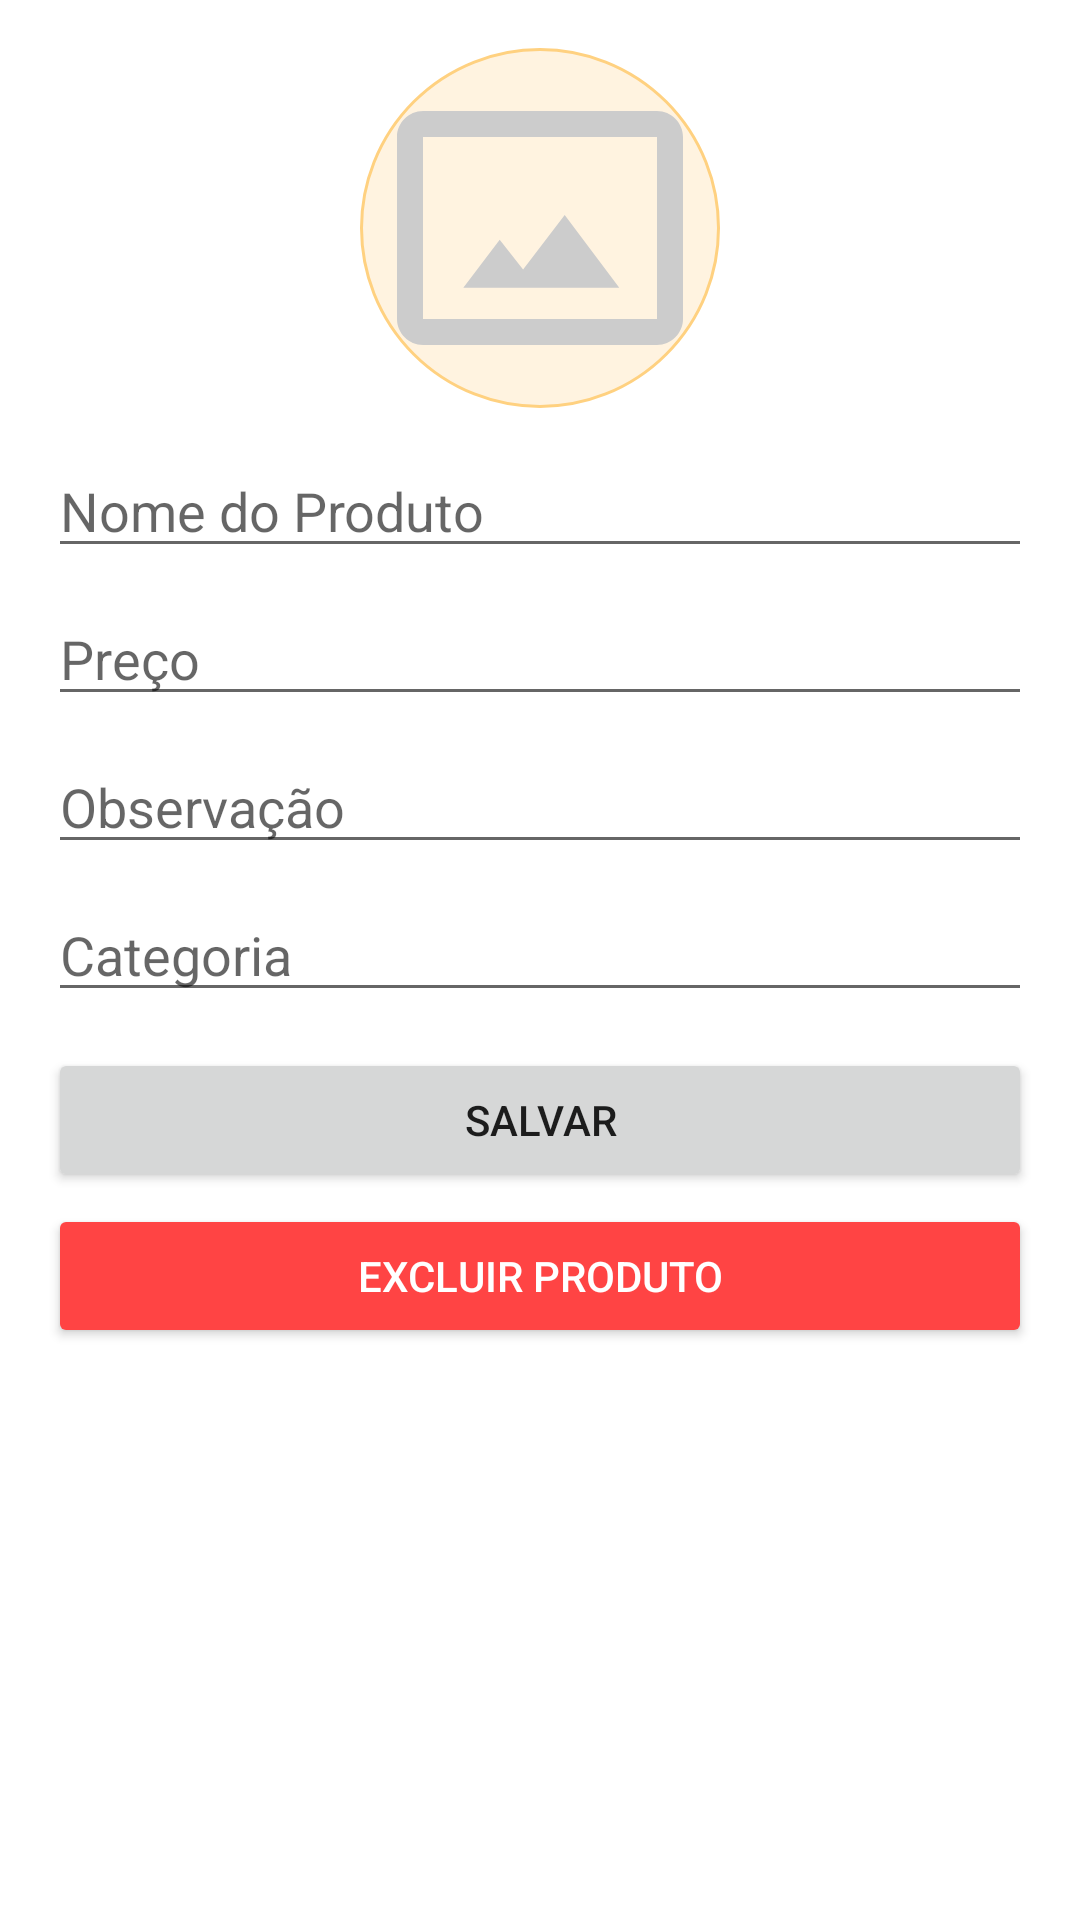

Screen size 1080 x 1920. Icon name, then its box in pixels as [x1, y1, x2, y2]:
sem imagem: [360, 48, 720, 408]
